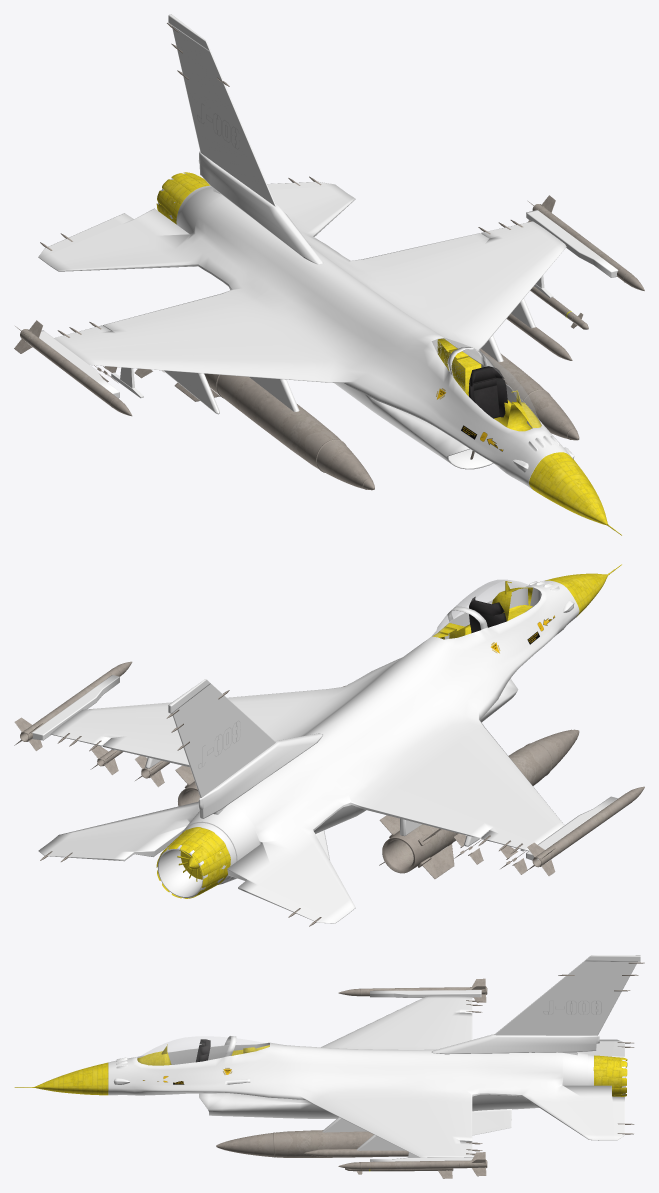
3 renders of one model, top to bottom at view 1: azimuth 30°, elevation 25°; view 2: azimuth 150°, elevation 25°; view 3: azimuth 270°, elevation 25°, orthographic. The views are drawn at different scales.
Visible parts, largest first — view 1: body, big missiles, top wing, top wing holder, side missiles, side missile holder, chair, motor shield, medium missiles holders, glass, back cockpit, big missile holders (+1 smaller); view 2: body, top wing, big missiles, top wing holder, side missiles, motor shield, side missile holder, big missle wings, glass, chair, cockpit, small missiles rear wing (+3 smaller); view 3: body, top wing, big missiles, top wing holder, glass, side missiles, side missile holder, motor shield, body bottom wings, medium missiles, f16 decals-01.006, side missiles wings (+3 smaller).
Boxes of the visible parts, <box> form: body: <box>38,173,607,525</box>; big missiles: <box>204,349,579,490</box>; top wing: <box>168,14,276,206</box>; top wing holder: <box>198,151,322,264</box>; side missiles: <box>20,204,644,416</box>; side missile holder: <box>39,210,618,398</box>; chair: <box>468,366,507,418</box>; motor shield: <box>156,172,209,224</box>; medium missiles holders: <box>163,298,535,414</box>; glass: <box>440,338,541,427</box>; back cockpit: <box>437,338,481,396</box>; big missile holders: <box>249,335,503,411</box>; body: <box>38,573,607,923</box>; top wing: <box>168,679,275,797</box>; big missiles: <box>178,686,579,873</box>; top wing holder: <box>198,733,322,818</box>; side missiles: <box>20,661,644,867</box>; motor shield: <box>156,827,230,898</box>; side missile holder: <box>32,675,617,860</box>; big missle wings: <box>175,765,454,878</box>; glass: <box>432,580,531,636</box>; chair: <box>469,596,506,633</box>; cockpit: <box>492,581,532,621</box>; small missiles rear wing: <box>90,745,527,874</box>; body: <box>34,995,625,1157</box>; top wing: <box>494,955,640,1035</box>; big missiles: <box>216,1130,388,1157</box>; top wing holder: <box>431,1034,599,1055</box>; glass: <box>137,1036,269,1065</box>; side missiles: <box>338,987,487,1169</box>; side missile holder: <box>370,990,481,1161</box>; motor shield: <box>593,1055,627,1096</box>; body bottom wings: <box>472,1109,511,1135</box>; medium missiles: <box>304,1149,408,1156</box>; f16 decals-01.006: <box>543,1001,601,1014</box>; side missiles wings: <box>472,978,486,1176</box>.
Size of the model in its own units: 10.72 by 4.64 by 15.8.
17 materials, 13 textured.
